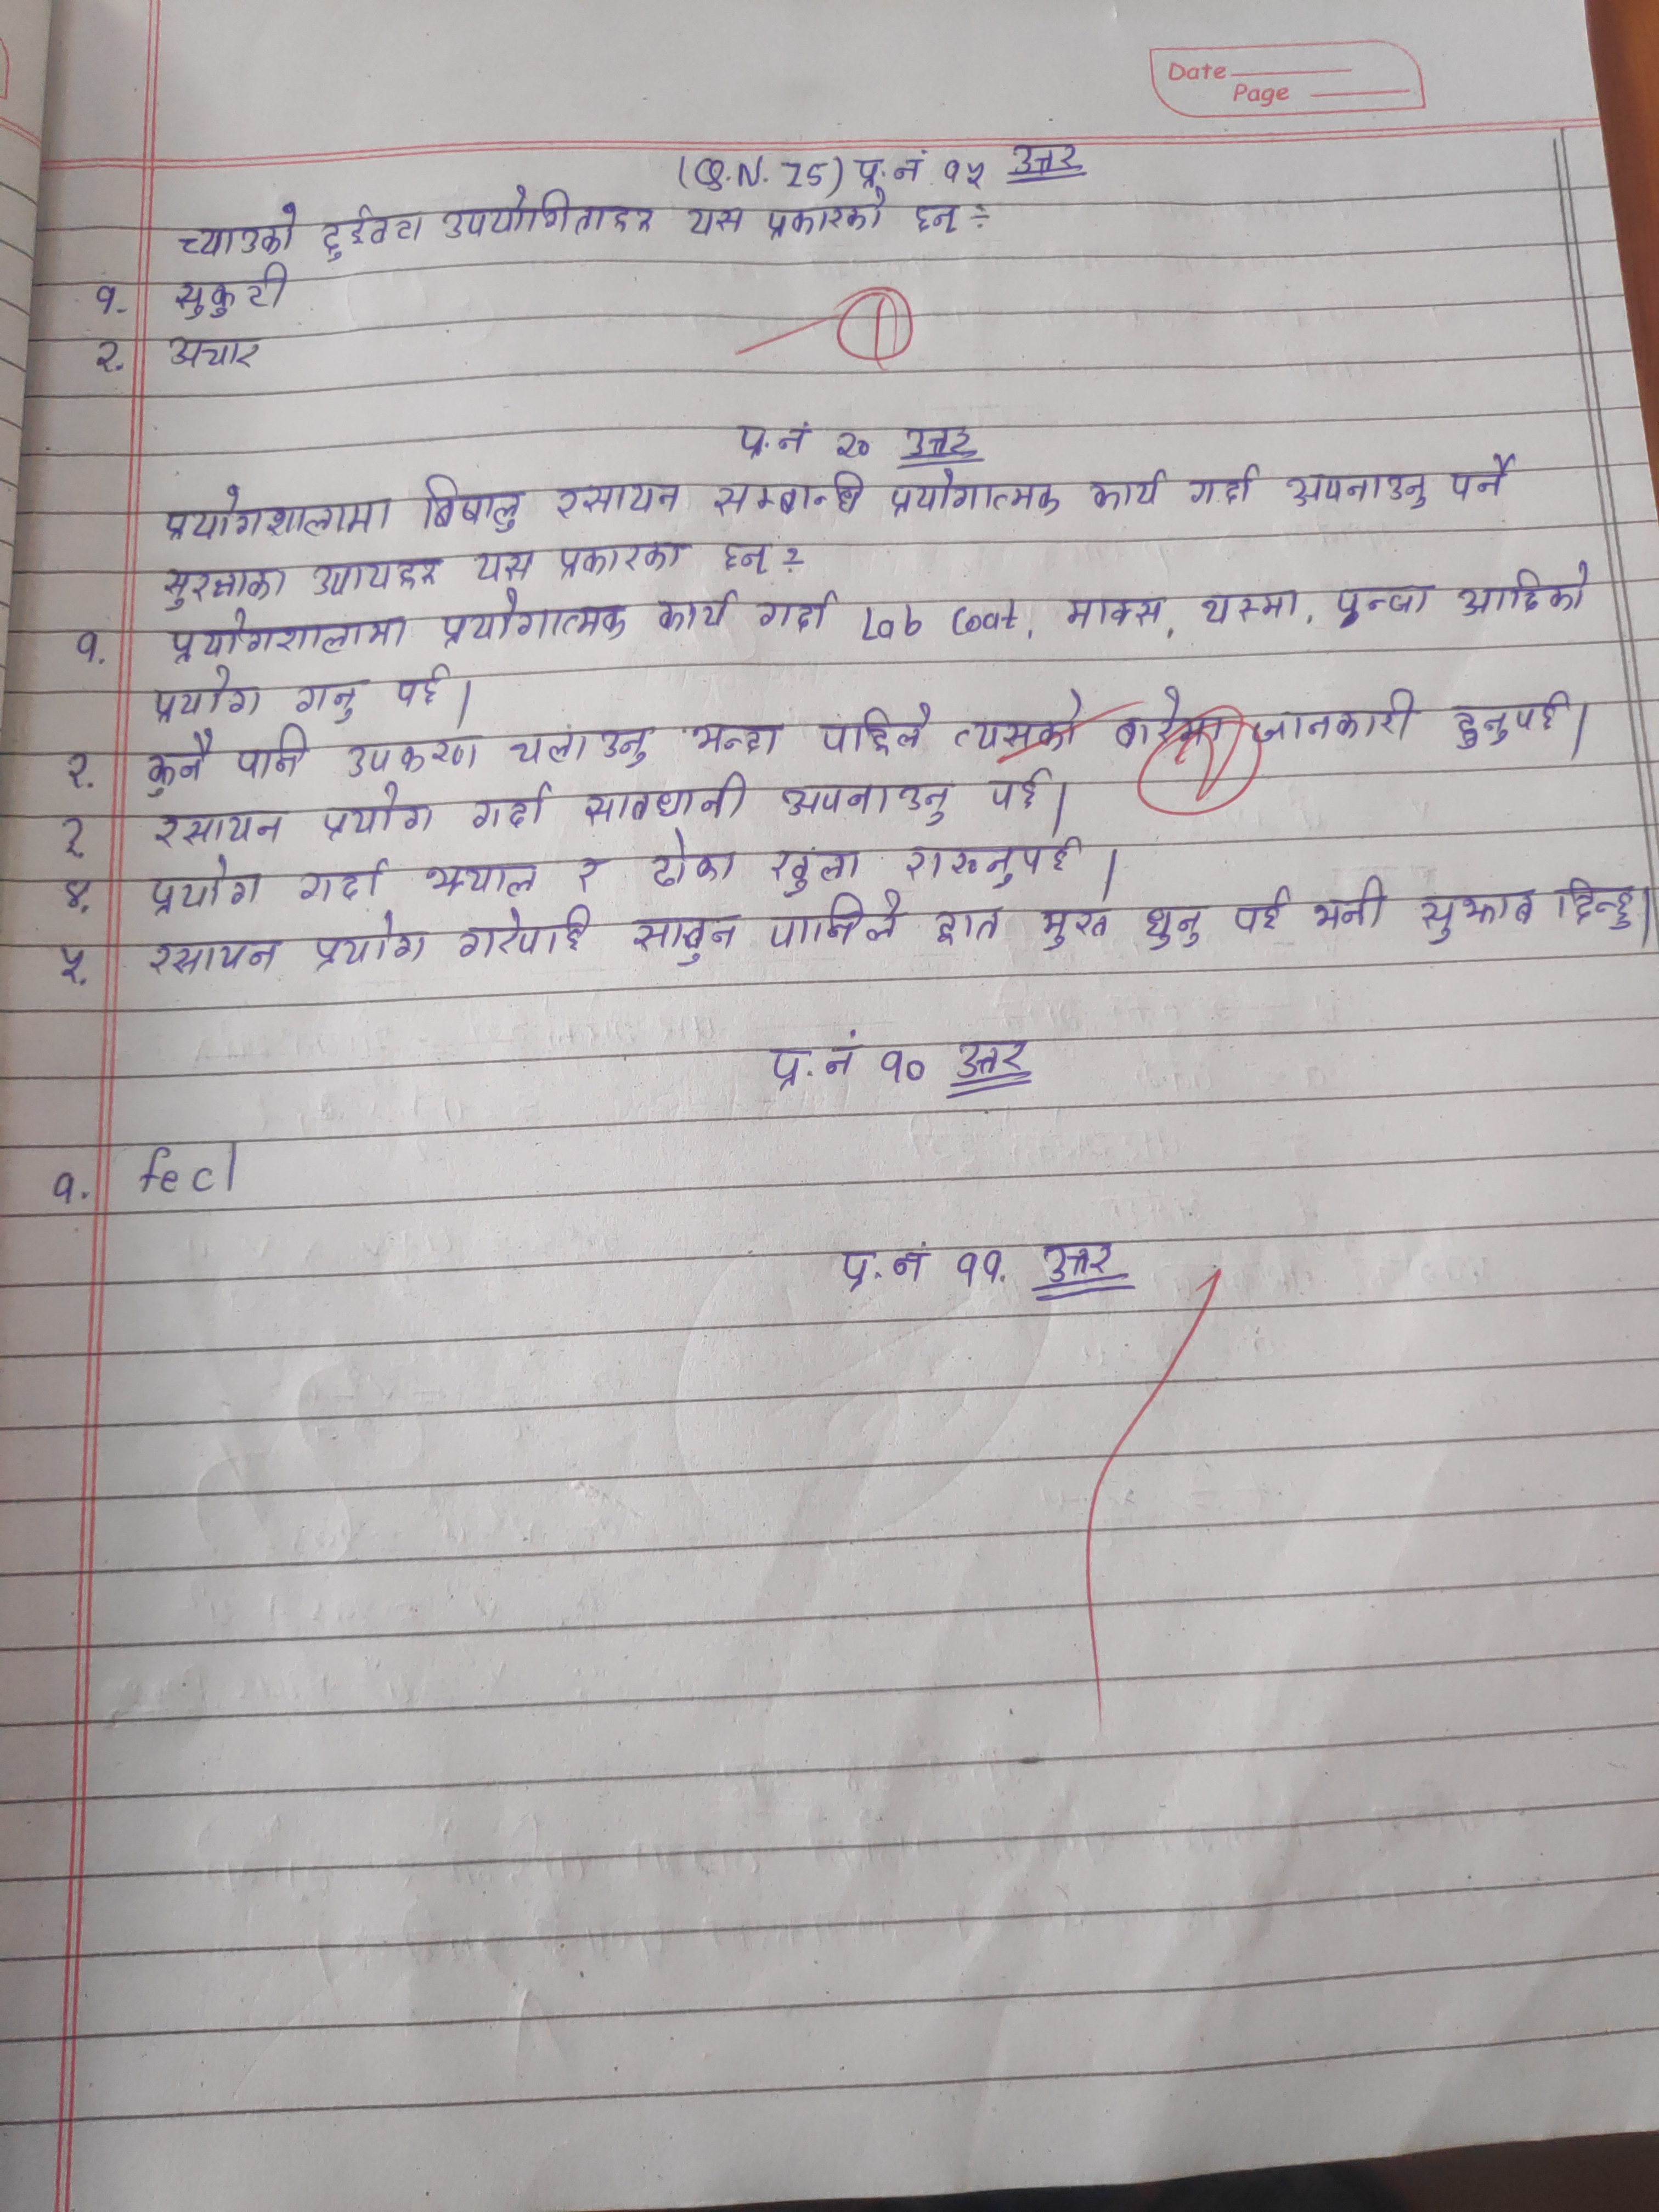text: (162, 606, 410, 665), (160, 486, 403, 543), (437, 583, 634, 653), (1241, 683, 1427, 749), (437, 181, 657, 237), (579, 765, 753, 833), (901, 829, 1084, 890), (763, 885, 904, 958), (767, 777, 955, 831), (880, 470, 1068, 521), (455, 900, 596, 963), (711, 463, 866, 519), (951, 697, 1087, 758), (1410, 885, 1537, 949), (1286, 462, 1429, 517), (143, 855, 268, 918), (1446, 688, 1568, 752), (1455, 564, 1595, 620), (1112, 681, 1220, 752), (176, 202, 310, 260), (416, 470, 528, 536), (507, 721, 657, 770), (321, 779, 434, 843), (173, 261, 295, 319), (551, 472, 683, 524), (817, 698, 934, 758), (626, 907, 742, 967), (152, 561, 289, 610), (314, 207, 429, 265), (307, 556, 450, 601), (645, 820, 737, 890), (305, 921, 436, 970), (765, 186, 890, 237), (153, 665, 267, 721), (760, 1031, 870, 1089), (139, 930, 282, 974), (420, 857, 547, 904), (150, 806, 289, 848), (1554, 869, 1640, 937), (552, 540, 690, 582), (1328, 577, 1434, 629), (335, 738, 479, 777), (145, 728, 218, 801), (295, 852, 390, 907), (162, 327, 265, 378), (765, 846, 868, 895), (681, 712, 784, 759), (1032, 900, 1121, 954), (1312, 874, 1391, 935), (232, 721, 310, 780), (1197, 589, 1305, 631), (835, 1244, 931, 1291), (465, 780, 551, 833), (925, 900, 1012, 949), (655, 589, 737, 637), (1065, 592, 1168, 631), (1084, 462, 1164, 510), (730, 416, 816, 462), (756, 587, 835, 636), (981, 763, 1054, 815), (286, 674, 361, 725), (897, 416, 986, 458), (1138, 900, 1208, 953), (951, 1035, 1033, 1078), (1445, 451, 1514, 502), (1187, 462, 1267, 505), (1232, 887, 1298, 939), (1042, 1238, 1117, 1280), (683, 197, 749, 244), (713, 535, 777, 580), (955, 1237, 1009, 1289), (465, 547, 538, 585), (387, 660, 450, 704), (904, 195, 965, 235), (873, 1049, 929, 1089), (47, 819, 96, 860), (56, 749, 98, 794), (54, 941, 91, 989), (568, 850, 606, 895), (91, 338, 129, 380), (91, 280, 129, 320), (70, 627, 105, 671), (833, 428, 873, 463), (61, 878, 98, 913)
